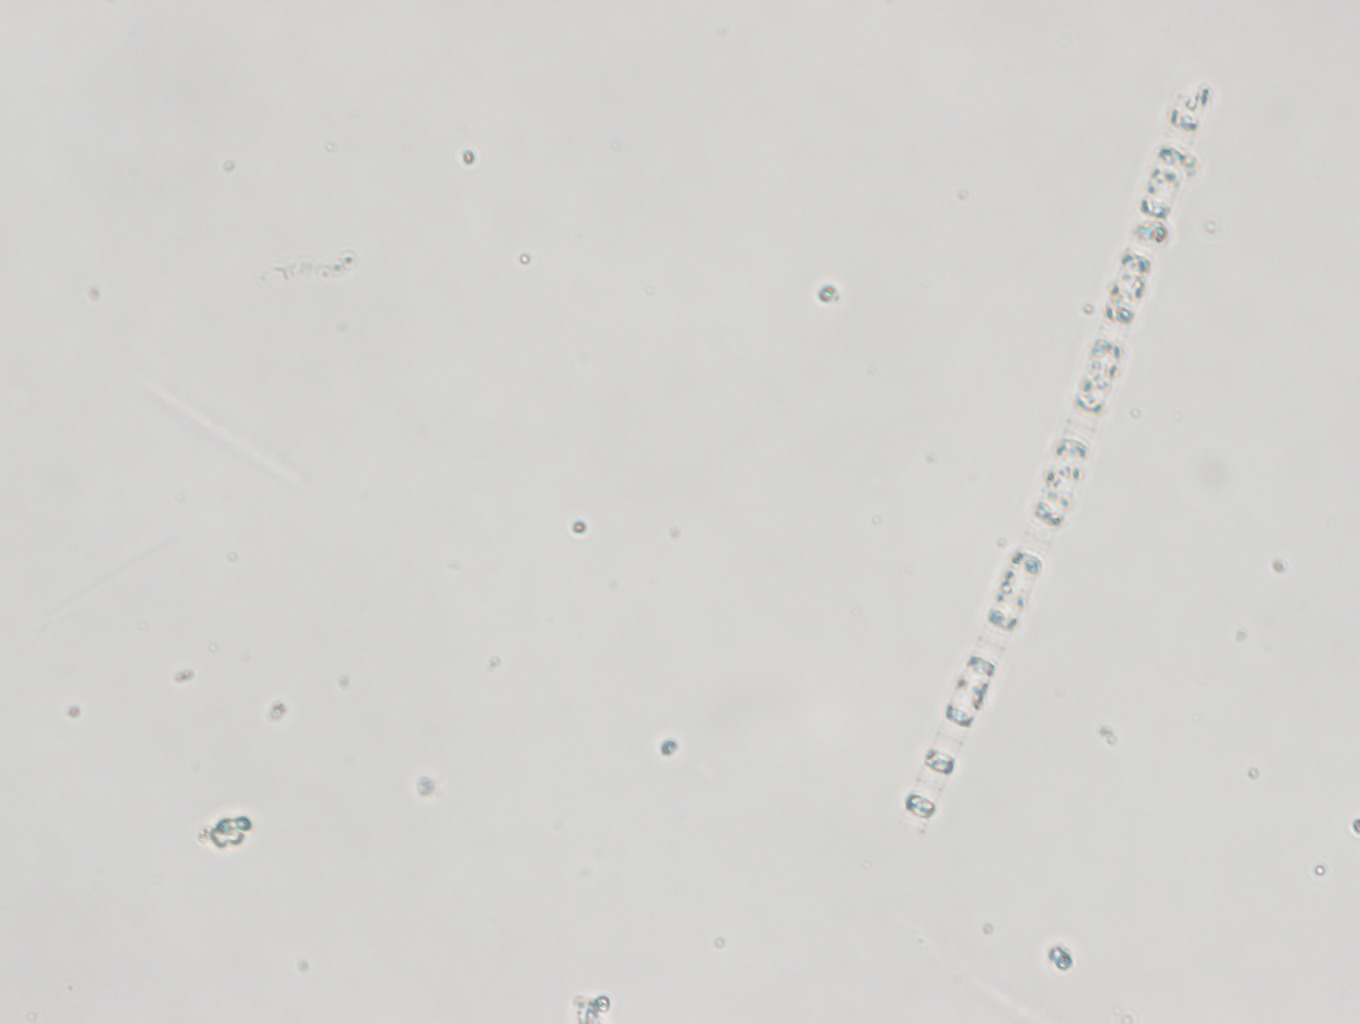skeletonema: (900, 79, 1213, 836)
